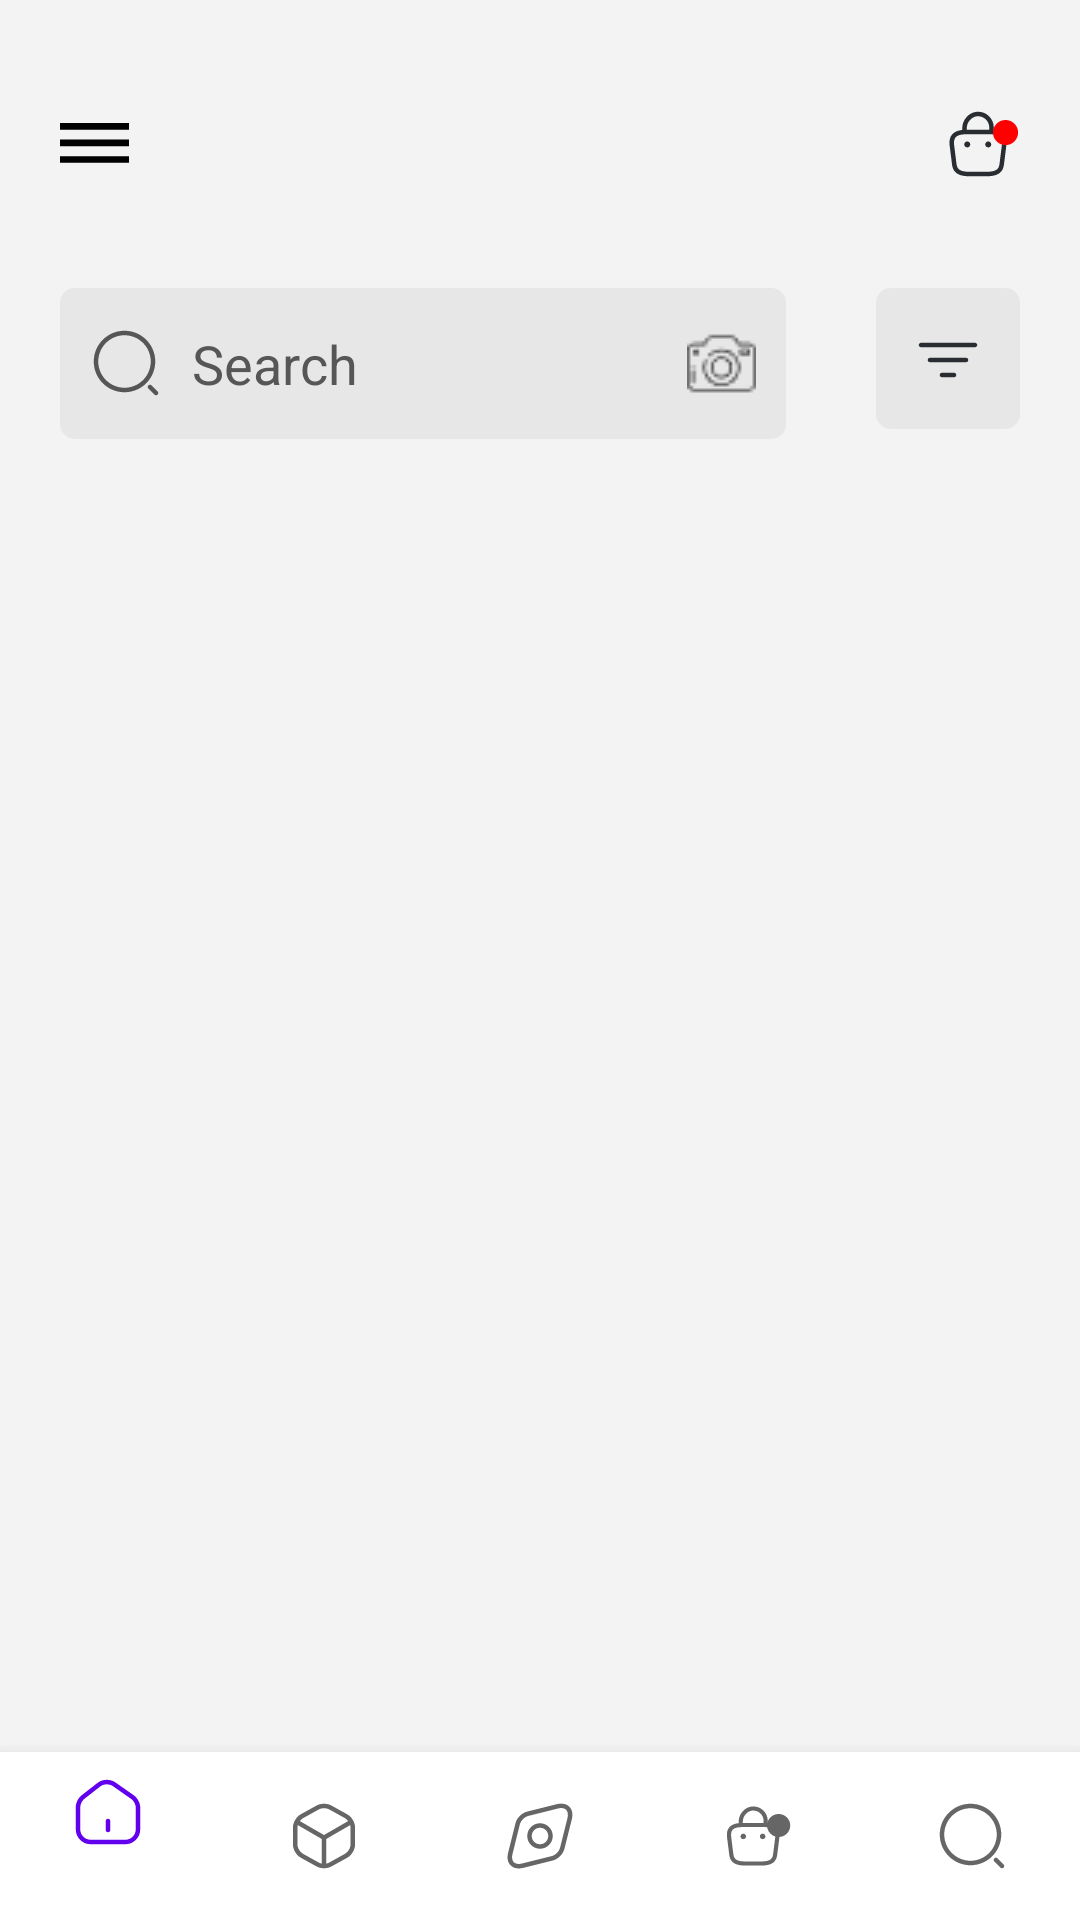

Point at icon controls on the screen. Image size 1080×1920, points as [x,y].
burger menu: [94,143]
cart: [983,144]
filter: [948,358]
